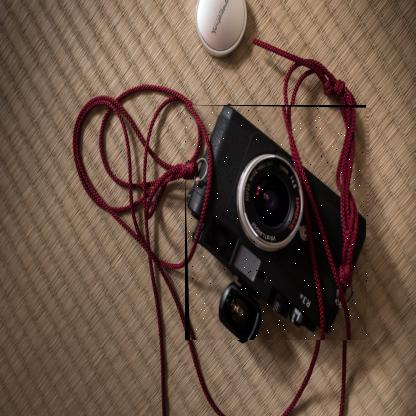Camera: (187, 106, 371, 342)
